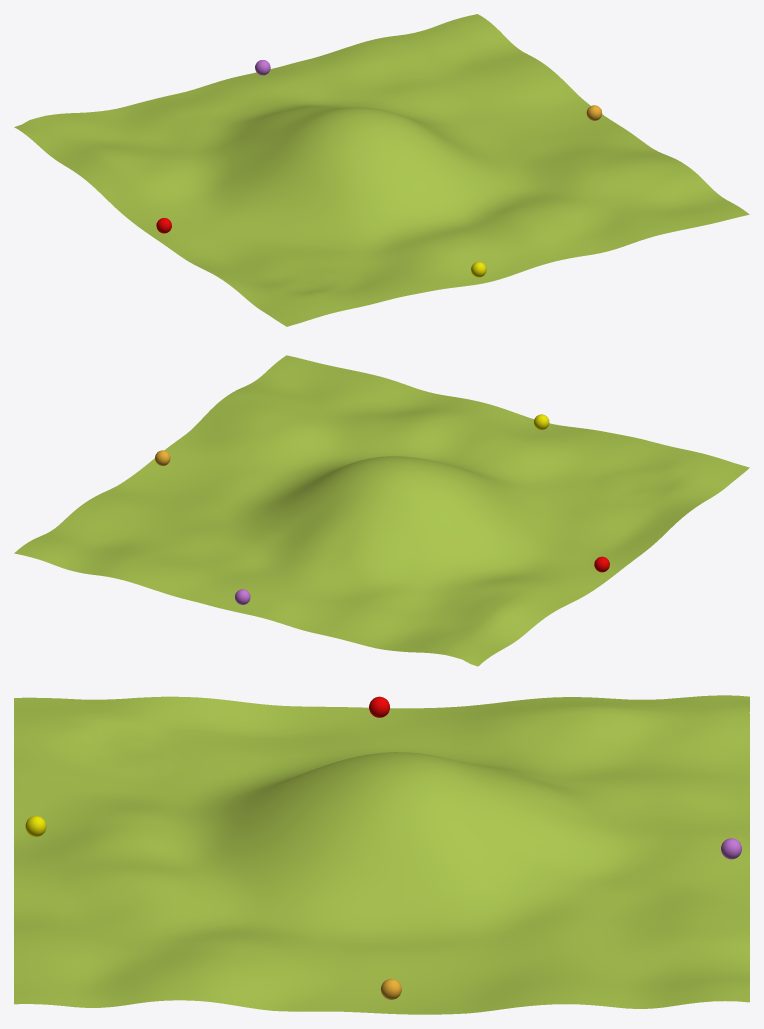
File: marqueurs_bosse_pos2.fbx
The picture shows the model from 3 angles, top to bottom: view 1: azimuth 30°, elevation 25°; view 2: azimuth 150°, elevation 25°; view 3: azimuth 270°, elevation 25°; orthographic projection. The views are drawn at different scales.
Parts seen in each view (by area): view 1: bosse_pos2; view 2: bosse_pos2; view 3: bosse_pos2.
Boxes of the visible parts, <box> form: bosse_pos2: <box>14,14,749,326</box>; bosse_pos2: <box>14,355,749,666</box>; bosse_pos2: <box>14,695,749,1014</box>.
Size of the model in its own units: 709 by 93.35 by 720.
